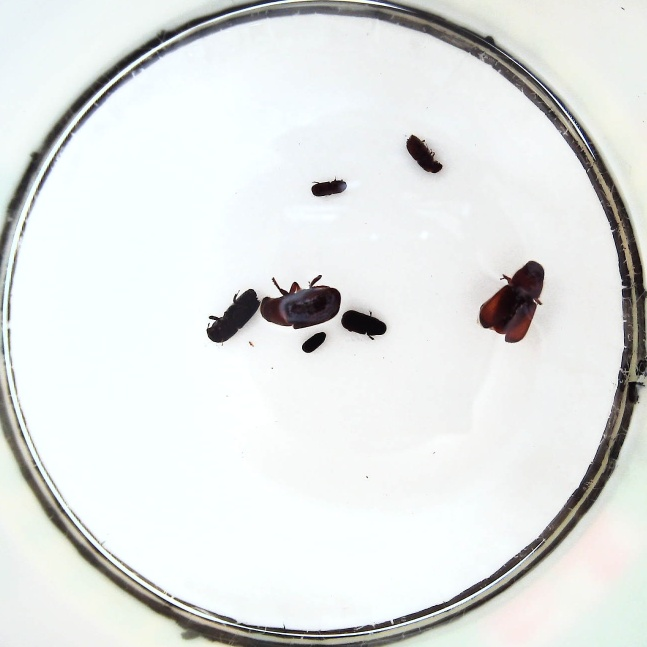acuminatus: (311, 177, 346, 198)
armandi: (340, 308, 387, 340)
boerner: (205, 287, 261, 346)
coleoptera: (301, 331, 328, 353)
leconte: (477, 260, 545, 343), (261, 275, 340, 330)
linnaeus: (404, 134, 442, 173)
